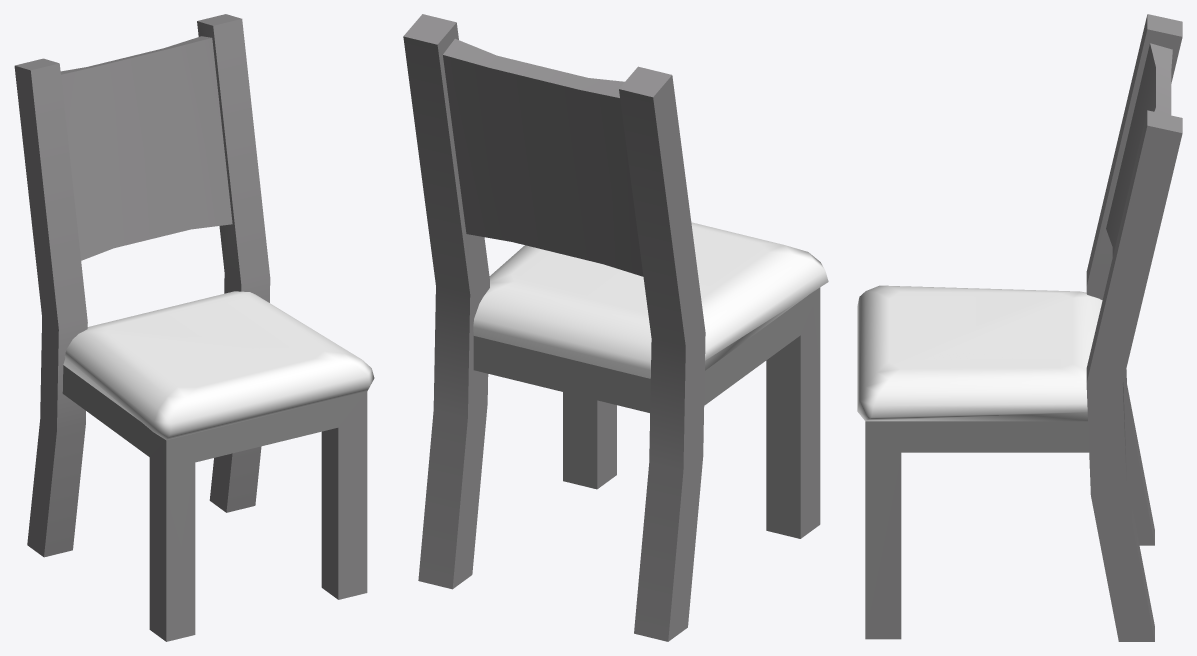
The model's file is SM_Prop_DiningChair_01.obj.
3 views of the same model, side by side, from view 1: azimuth 30°, elevation 25°; view 2: azimuth 150°, elevation 25°; view 3: azimuth 270°, elevation 25° (orthographic). The views are drawn at different scales.
Parts seen in each view (by area): view 1: SM_Prop_DiningChair_01_Mat_SwatchOverlay_PolygonTown_01_Wood_Ins; view 2: SM_Prop_DiningChair_01_Mat_SwatchOverlay_PolygonTown_01_Wood_Ins; view 3: SM_Prop_DiningChair_01_Mat_SwatchOverlay_PolygonTown_01_Wood_Ins.
Boxes of the visible parts, x1,y1,x2,y2 form: SM_Prop_DiningChair_01_Mat_SwatchOverlay_PolygonTown_01_Wood_Ins: (14, 14, 374, 641); SM_Prop_DiningChair_01_Mat_SwatchOverlay_PolygonTown_01_Wood_Ins: (403, 14, 828, 641); SM_Prop_DiningChair_01_Mat_SwatchOverlay_PolygonTown_01_Wood_Ins: (857, 14, 1182, 641).
Size of the model in its own units: 0.5499 by 1.13 by 0.6475.
Materials: 1 (1 with a texture image).
